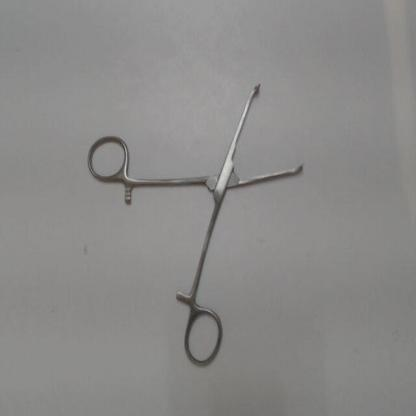Allis Tissue Forceps: (82, 74, 312, 374)
